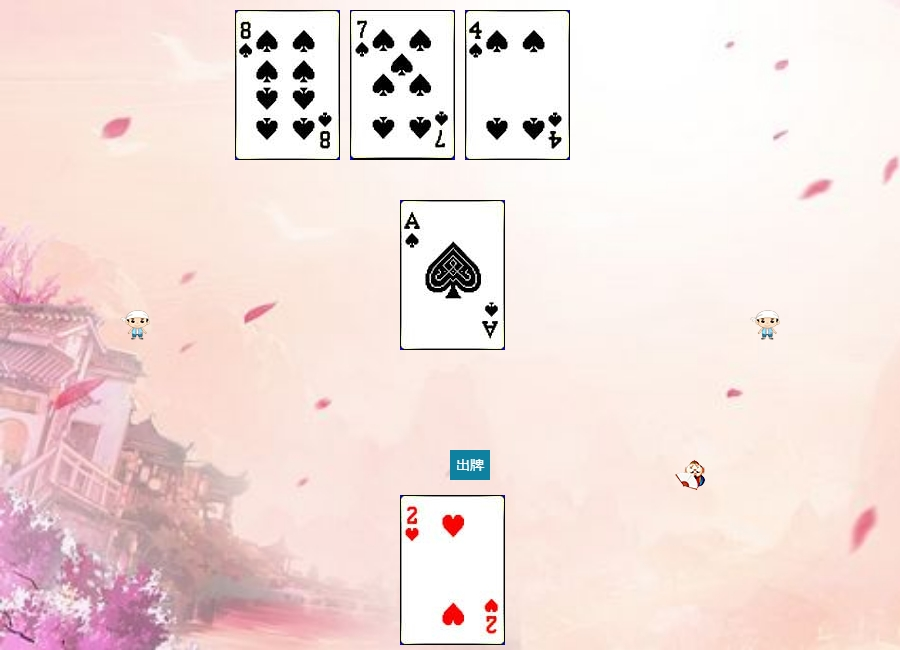14~4: (400, 200, 505, 350)
15~3: (400, 495, 505, 645)
4~4: (465, 10, 570, 160)
7~4: (350, 10, 455, 160)
8~4: (235, 10, 340, 160)
